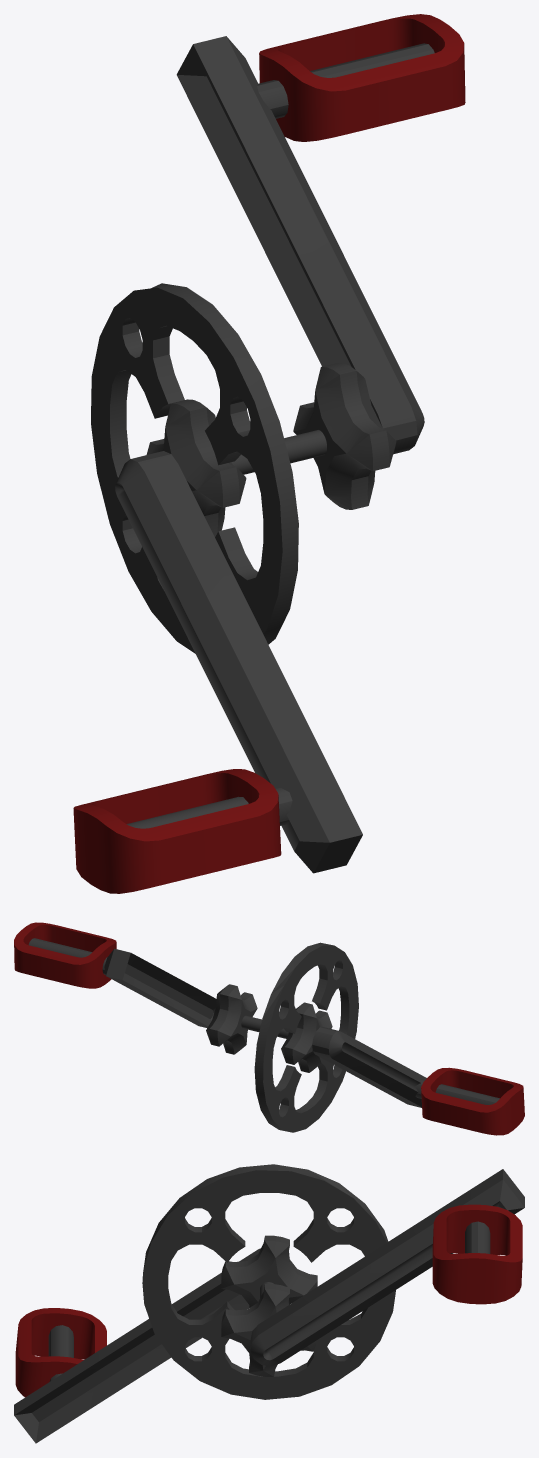
Rendered from Pedals.obj.
3 views of the same model, one above another, from view 1: azimuth 30°, elevation 25°; view 2: azimuth 150°, elevation 25°; view 3: azimuth 270°, elevation 25° (orthographic). The views are drawn at different scales.
Parts seen in each view (by area): view 1: Pedals; view 2: Pedals; view 3: Pedals.
Part boxes in pixels (left/top/right/bottom): Pedals: left=73, top=14, right=465, bottom=893; Pedals: left=14, top=922, right=524, bottom=1135; Pedals: left=14, top=1164, right=524, bottom=1443.
Size of the model in its own units: 40.62 by 29.91 by 40.81.
